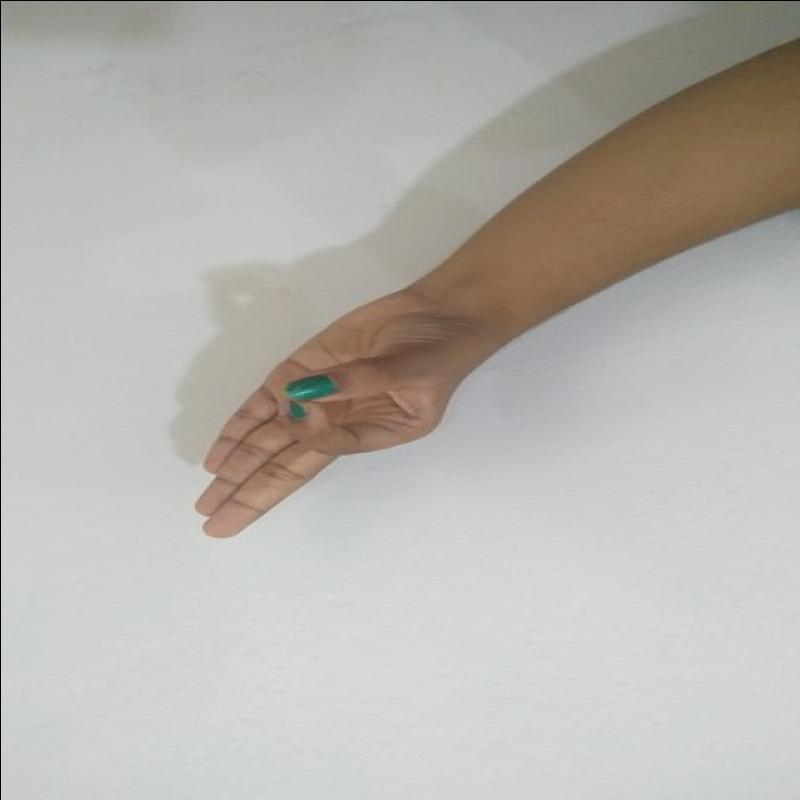Mudraakhyam: (173, 277, 467, 543)
